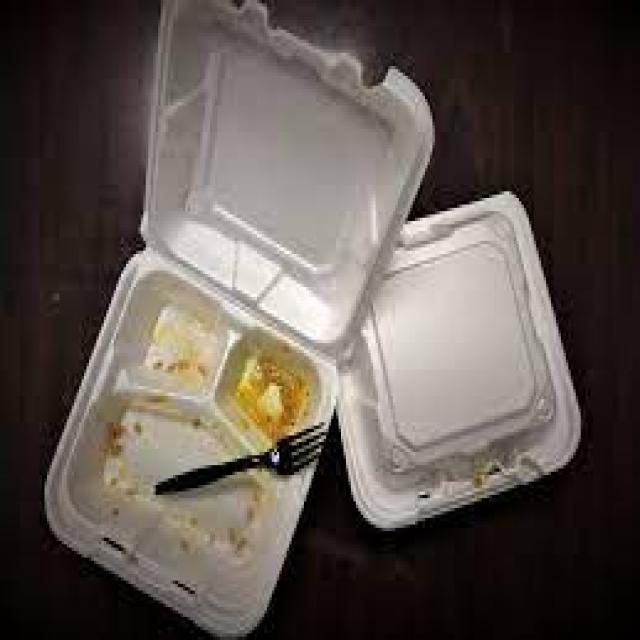styrofoam: (42, 0, 583, 637)
